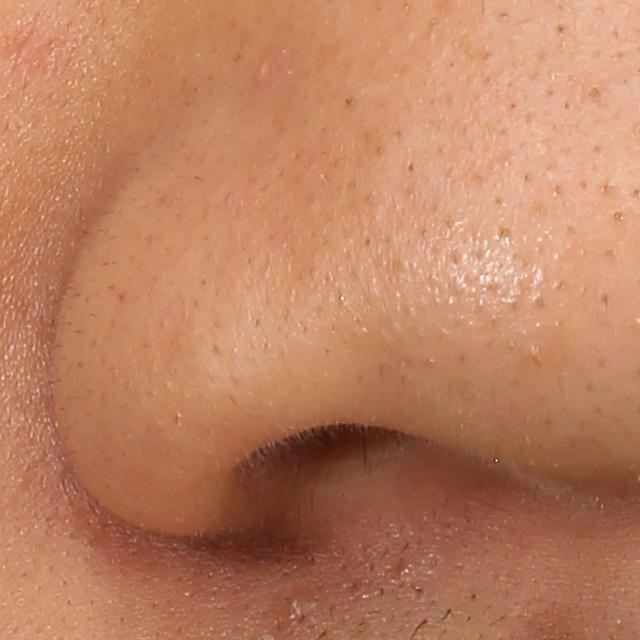comedo: (486, 221, 514, 246), (610, 207, 626, 225)
